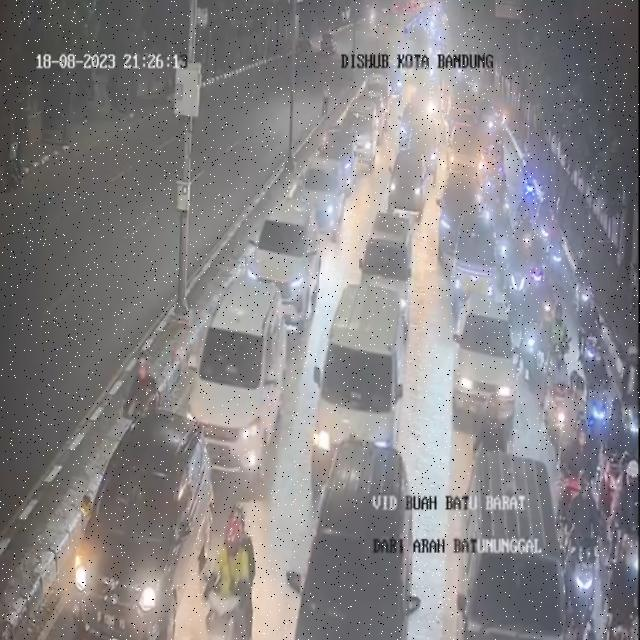cars: (65, 404, 208, 636), (291, 444, 412, 640), (303, 284, 406, 481), (451, 453, 560, 639), (190, 278, 290, 478), (246, 200, 319, 333), (449, 284, 517, 426), (360, 210, 418, 322), (450, 212, 497, 308), (440, 167, 479, 250), (306, 155, 344, 240), (388, 143, 425, 230), (326, 120, 360, 194), (450, 124, 486, 184), (347, 100, 377, 170), (358, 74, 390, 127), (373, 50, 399, 98), (402, 61, 429, 104)
motorcycle: (202, 501, 260, 640), (565, 466, 601, 628), (606, 398, 639, 513), (610, 534, 640, 638), (615, 457, 640, 578), (588, 328, 615, 433), (544, 391, 568, 497), (559, 422, 586, 504), (505, 224, 531, 309), (540, 302, 564, 392), (473, 397, 507, 460), (124, 352, 154, 418), (580, 284, 604, 360), (520, 298, 540, 382), (623, 333, 640, 428), (518, 194, 537, 274), (546, 344, 570, 405), (568, 371, 589, 429), (496, 214, 510, 276), (516, 205, 531, 256)
